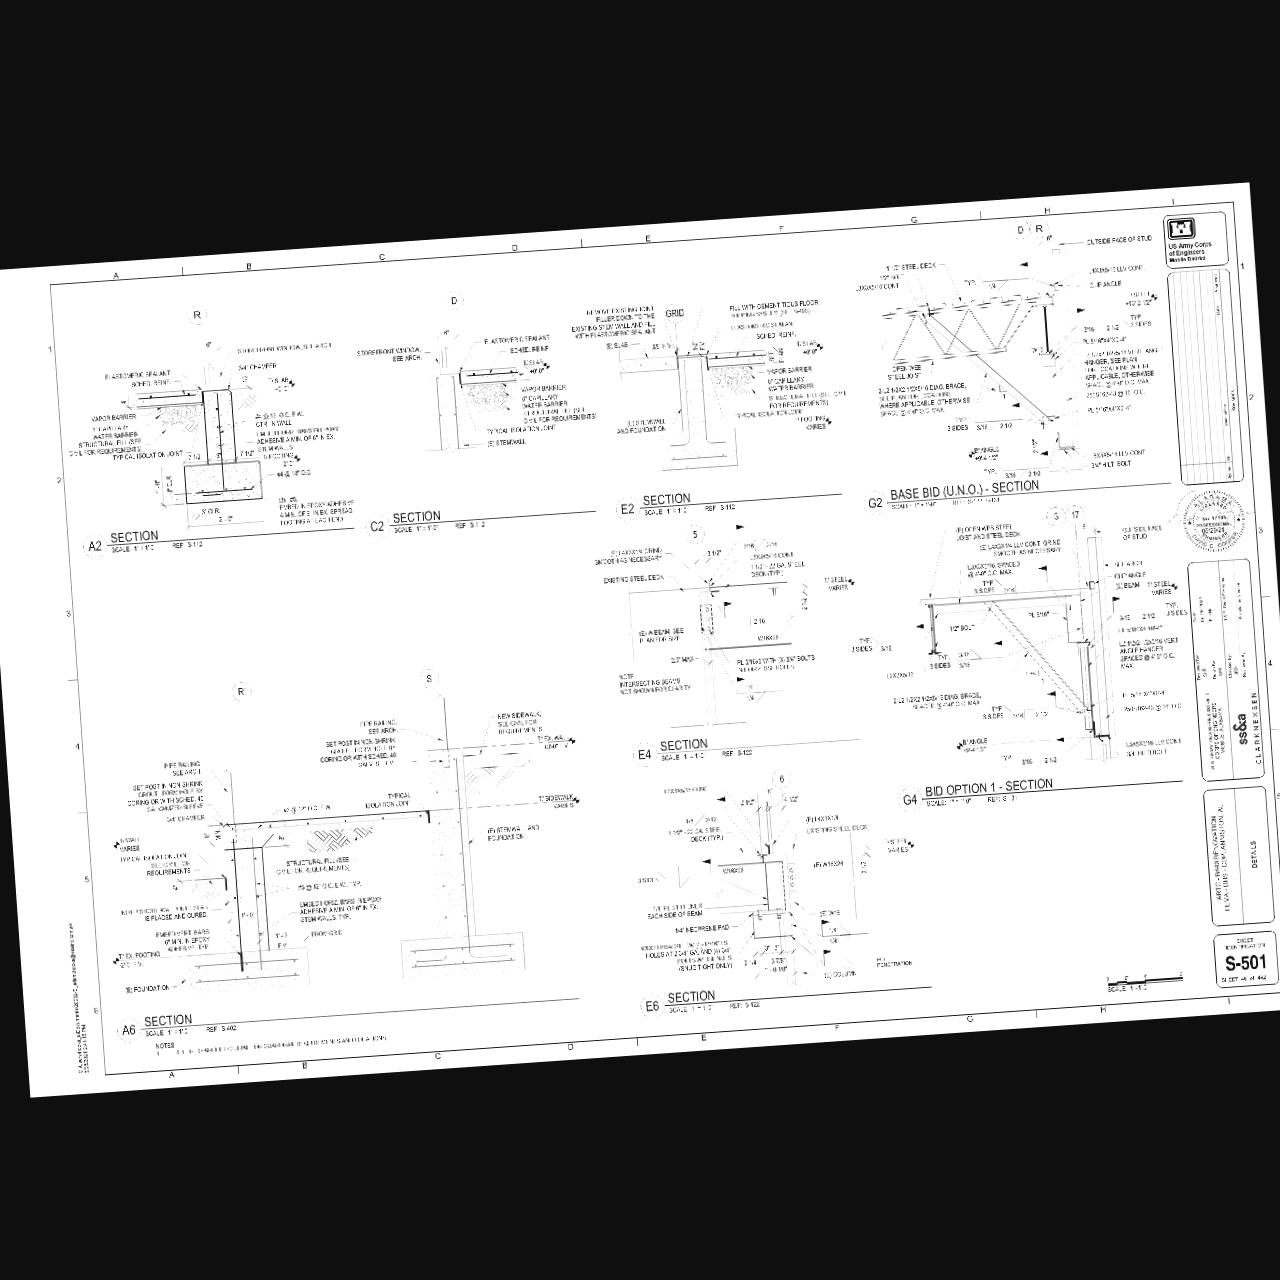title: (114, 980, 585, 1046), (859, 464, 1178, 519), (892, 763, 1189, 817), (636, 971, 937, 1023), (79, 511, 360, 563), (363, 492, 600, 543), (627, 724, 865, 772), (611, 478, 849, 525)
